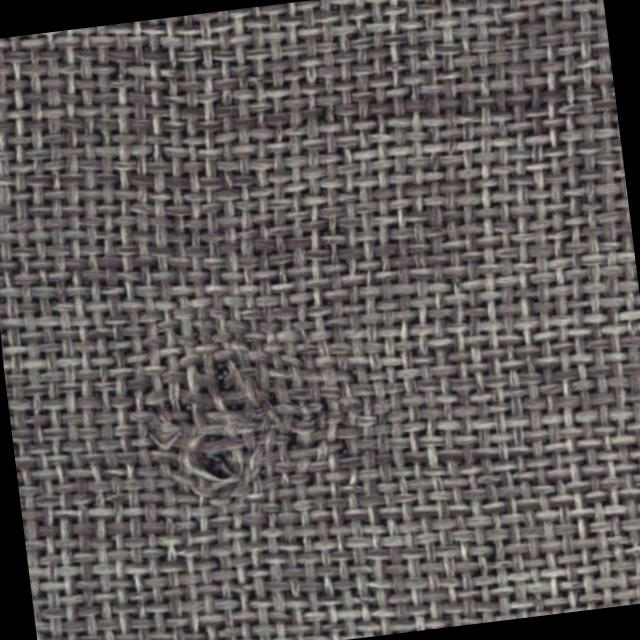hole: (158, 386, 286, 514)
